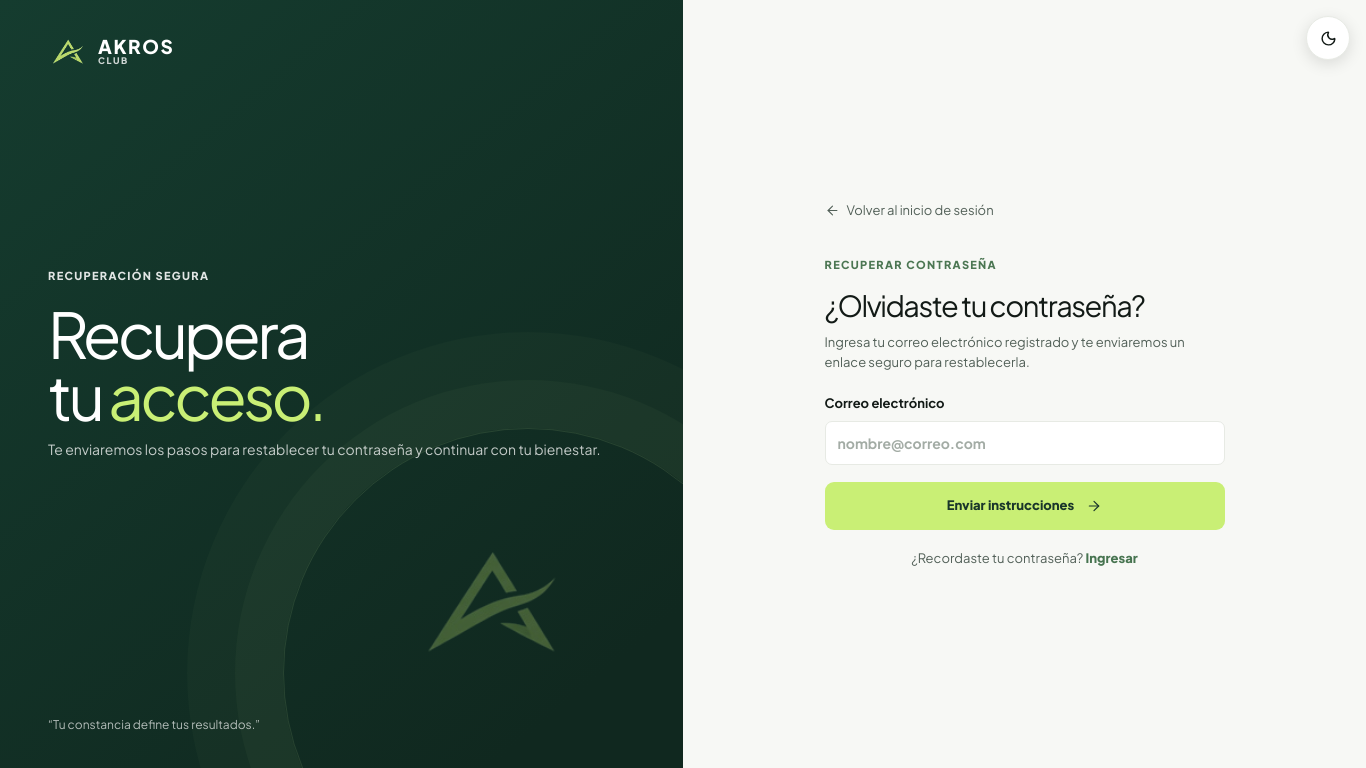
Test: TSK-QA-05 [Anti-Enumeración]: Fallo de backend (500) o excepción de red no revela discrepancias al atacante
Type "victima.potencial@sportcomplex.com" into the field at (1024, 443), box [824,421,1224,465]
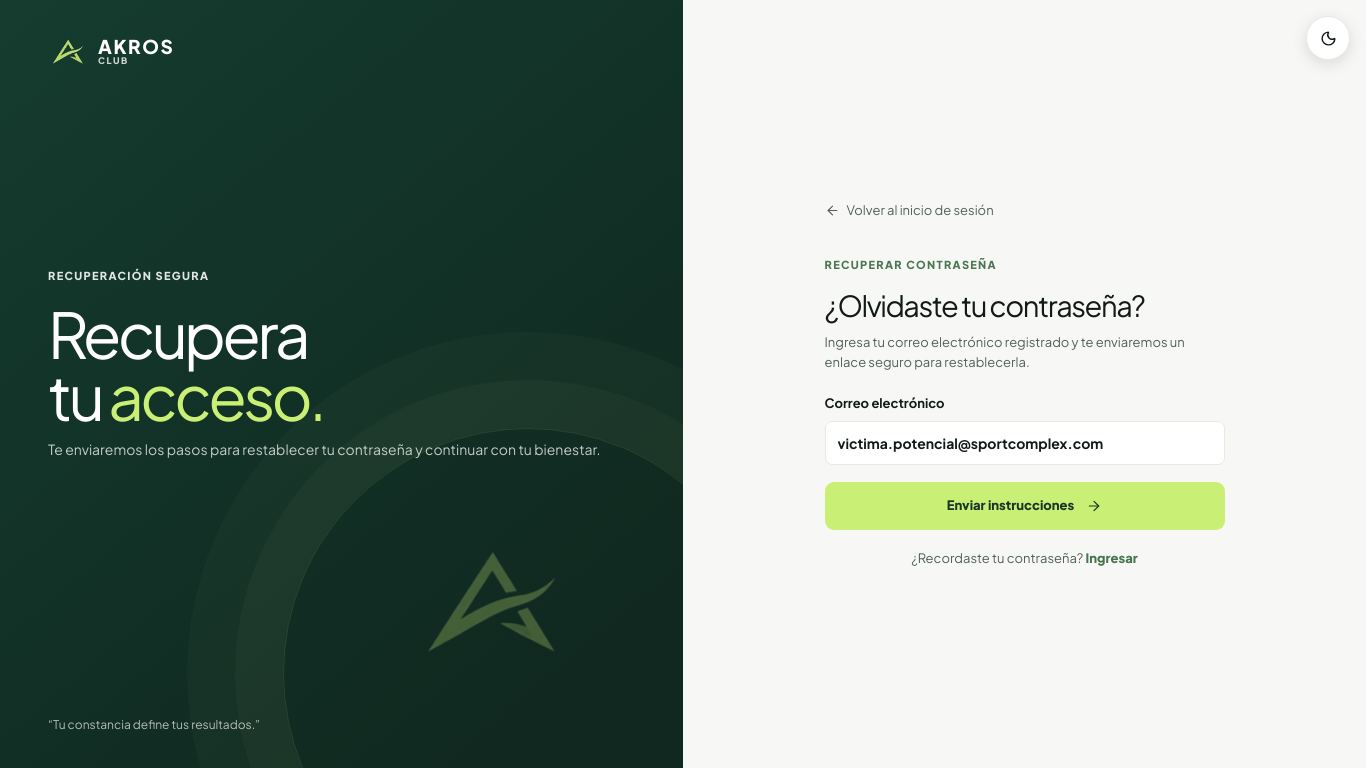
Click the button "Enviar instrucciones" at (1024, 506), box [824,482,1224,530]
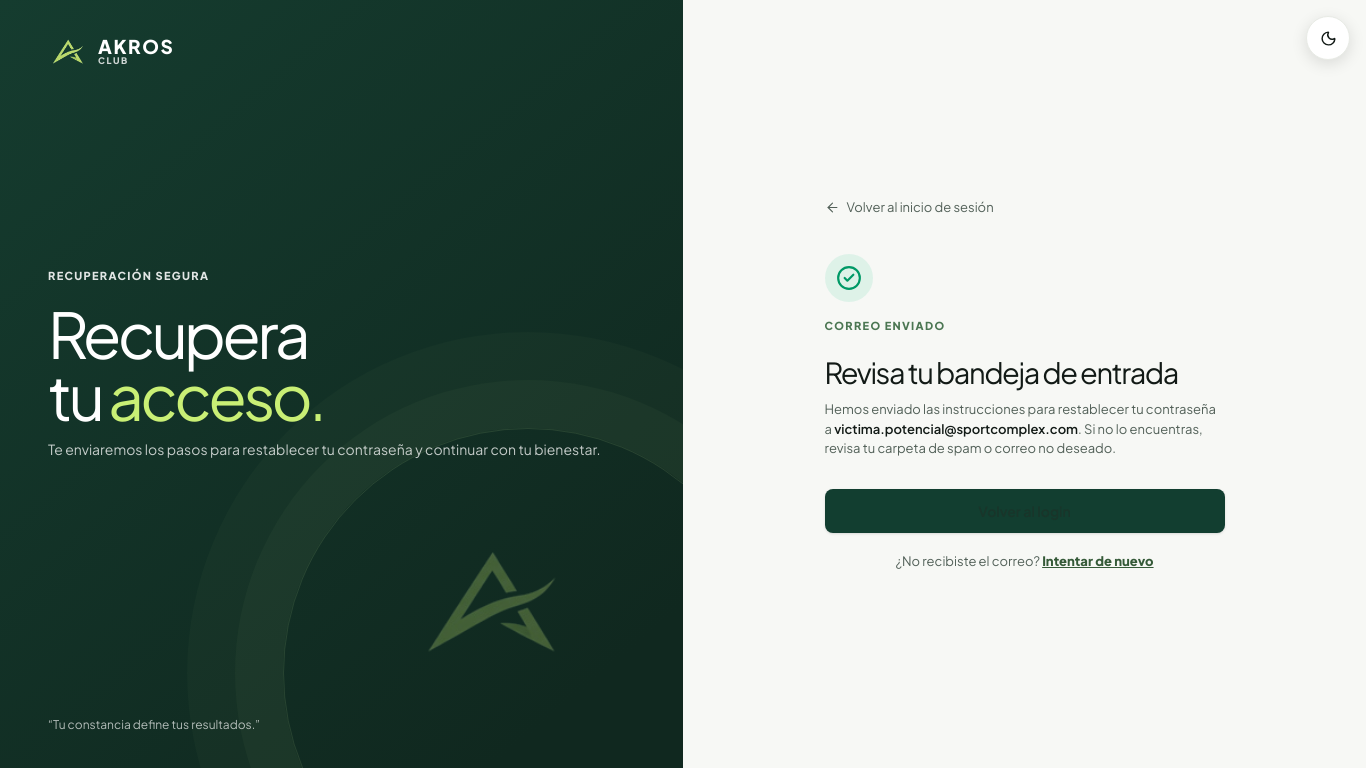
Check: the element with test id "forgot-password-success" is shown, box [824,254,1224,571]
